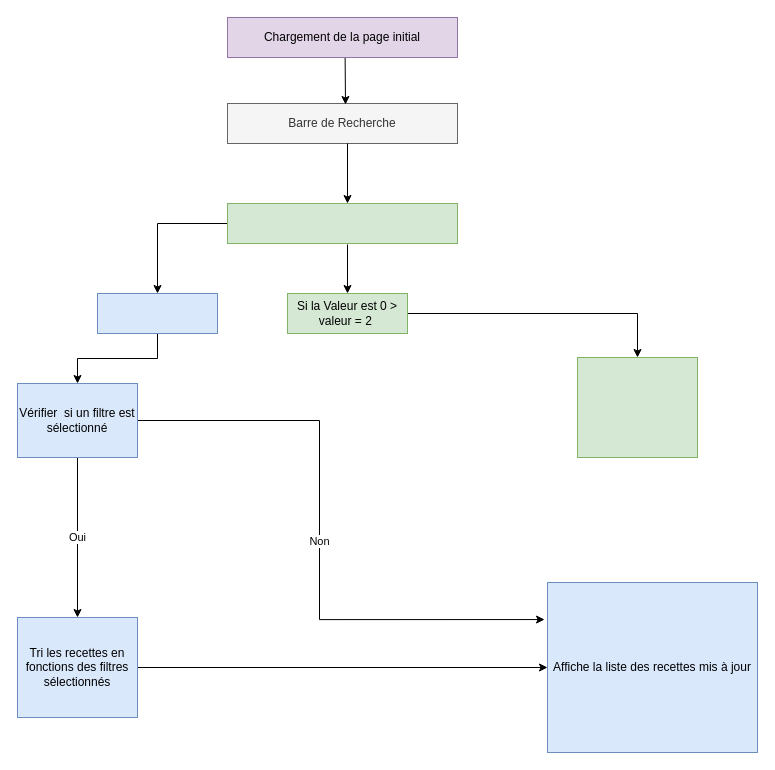
Image size: 775x770. Some labels were removed from this diagram. The shapes that lost their labels are listed below. From the top down, each one's centre as x and y in pixels, then its label:
point (342, 223): Entrée des valeurs
point (157, 313): Si la Valeur est >= 3
point (637, 407): Afficher toutes les recettes disponibles
